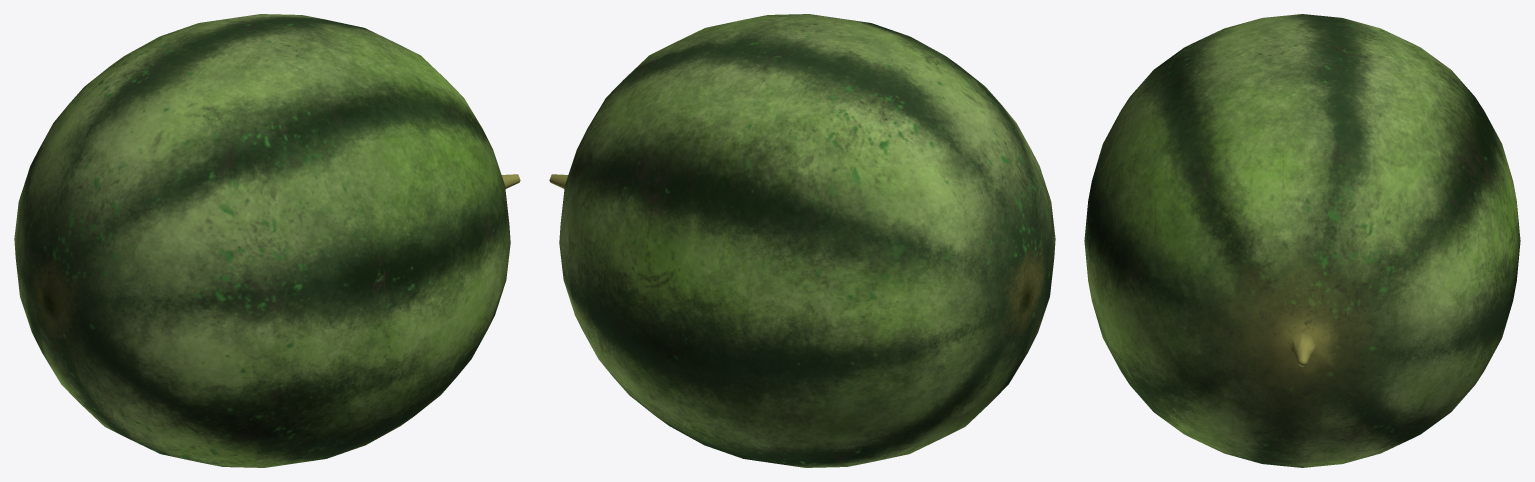
File: melon.fbx
The picture shows the model from 3 angles, left to right: view 1: azimuth 30°, elevation 25°; view 2: azimuth 150°, elevation 25°; view 3: azimuth 270°, elevation 25°; orthographic projection. The views are drawn at different scales.
Visible parts, largest first — view 1: pCube1; view 2: pCube1; view 3: pCube1.
Boxes of the visible parts, bbox=[...] form: pCube1: bbox=[14, 14, 520, 467]; pCube1: bbox=[549, 14, 1055, 467]; pCube1: bbox=[1084, 14, 1520, 467].
Bounding box in the file's own units: 1.04 × 0.8492 × 0.8492.
Materials: 1 (1 with a texture image).
